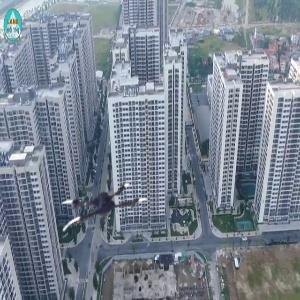drone: (59, 170, 149, 260)
